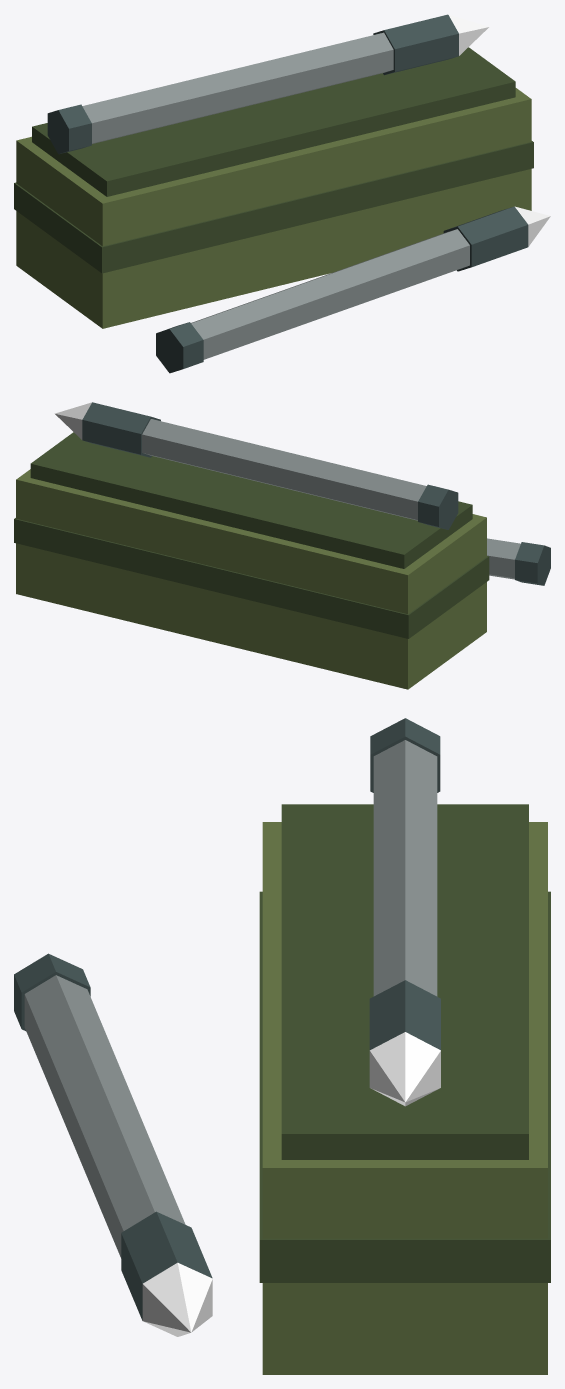
The model's file is ce_ammo2_s8_heat_c.obj.
The picture shows the model from 3 angles, top to bottom: view 1: azimuth 30°, elevation 25°; view 2: azimuth 150°, elevation 25°; view 3: azimuth 270°, elevation 25°; orthographic projection. The views are drawn at different scales.
Parts seen in each view (by area): view 1: ce_ammo2_s8_heat_c_0, ce_ammo2_s8_heat_c_1, ce_ammo2_s8_heat_c_2, ce_ammo2_s8_heat_c_4, ce_ammo2_s8_heat_c_8, ce_ammo2_s8_heat_c_5, ce_ammo2_s8_heat_c_9, ce_ammo2_s8_heat_c_7, ce_ammo2_s8_heat_c_3, ce_ammo2_s8_heat_c_6, ce_ammo2_s8_heat_c_10; view 2: ce_ammo2_s8_heat_c_0, ce_ammo2_s8_heat_c_1, ce_ammo2_s8_heat_c_2, ce_ammo2_s8_heat_c_4, ce_ammo2_s8_heat_c_5, ce_ammo2_s8_heat_c_3, ce_ammo2_s8_heat_c_7, ce_ammo2_s8_heat_c_8, ce_ammo2_s8_heat_c_6; view 3: ce_ammo2_s8_heat_c_1, ce_ammo2_s8_heat_c_0, ce_ammo2_s8_heat_c_8, ce_ammo2_s8_heat_c_4, ce_ammo2_s8_heat_c_2, ce_ammo2_s8_heat_c_9, ce_ammo2_s8_heat_c_10, ce_ammo2_s8_heat_c_6, ce_ammo2_s8_heat_c_5, ce_ammo2_s8_heat_c_7, ce_ammo2_s8_heat_c_3.
Boxes of the visible parts, x1,y1,x2,y2 form: ce_ammo2_s8_heat_c_0: (16, 88, 531, 328); ce_ammo2_s8_heat_c_1: (32, 47, 515, 196); ce_ammo2_s8_heat_c_2: (14, 141, 533, 273); ce_ammo2_s8_heat_c_4: (82, 32, 393, 143); ce_ammo2_s8_heat_c_8: (191, 229, 469, 359); ce_ammo2_s8_heat_c_5: (373, 14, 458, 75); ce_ammo2_s8_heat_c_9: (443, 206, 528, 271); ce_ammo2_s8_heat_c_7: (156, 322, 203, 373); ce_ammo2_s8_heat_c_3: (47, 104, 91, 154); ce_ammo2_s8_heat_c_6: (448, 14, 488, 55); ce_ammo2_s8_heat_c_10: (515, 206, 550, 246); ce_ammo2_s8_heat_c_0: (16, 469, 486, 689); ce_ammo2_s8_heat_c_1: (30, 432, 472, 568); ce_ammo2_s8_heat_c_2: (14, 518, 489, 638); ce_ammo2_s8_heat_c_4: (142, 419, 426, 520); ce_ammo2_s8_heat_c_5: (82, 402, 160, 457); ce_ammo2_s8_heat_c_3: (418, 484, 458, 529); ce_ammo2_s8_heat_c_7: (515, 542, 550, 585); ce_ammo2_s8_heat_c_8: (487, 538, 520, 579); ce_ammo2_s8_heat_c_6: (55, 402, 91, 439); ce_ammo2_s8_heat_c_1: (281, 804, 528, 1159); ce_ammo2_s8_heat_c_0: (262, 822, 547, 1374); ce_ammo2_s8_heat_c_8: (24, 975, 185, 1258); ce_ammo2_s8_heat_c_4: (373, 740, 437, 996); ce_ammo2_s8_heat_c_2: (259, 891, 550, 1282); ce_ammo2_s8_heat_c_9: (121, 1211, 212, 1320); ce_ammo2_s8_heat_c_10: (142, 1262, 212, 1336); ce_ammo2_s8_heat_c_6: (369, 1032, 440, 1106); ce_ammo2_s8_heat_c_5: (369, 980, 440, 1050); ce_ammo2_s8_heat_c_7: (14, 953, 90, 1030); ce_ammo2_s8_heat_c_3: (370, 718, 440, 792).
Size of the model in its own units: 0.866 by 0.3603 by 0.5643.
